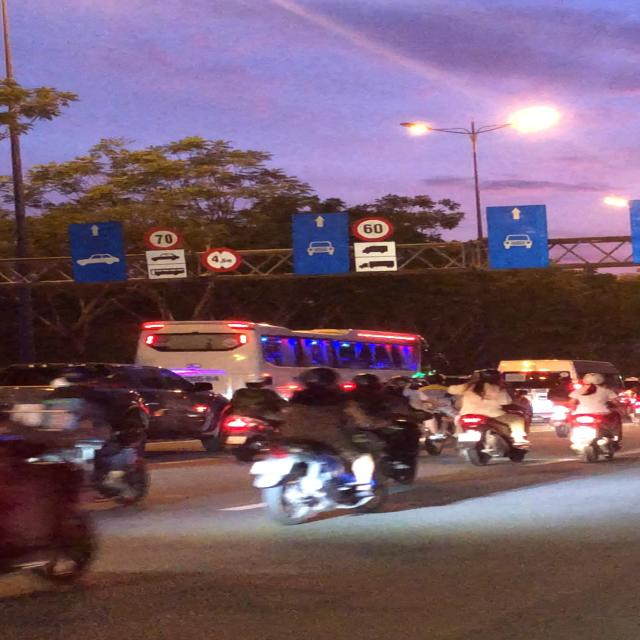Bien bao han che chieu cao: (200, 246, 248, 273)
Bien bao toc do toi da cho phep: (350, 214, 401, 243), (142, 225, 187, 252)
